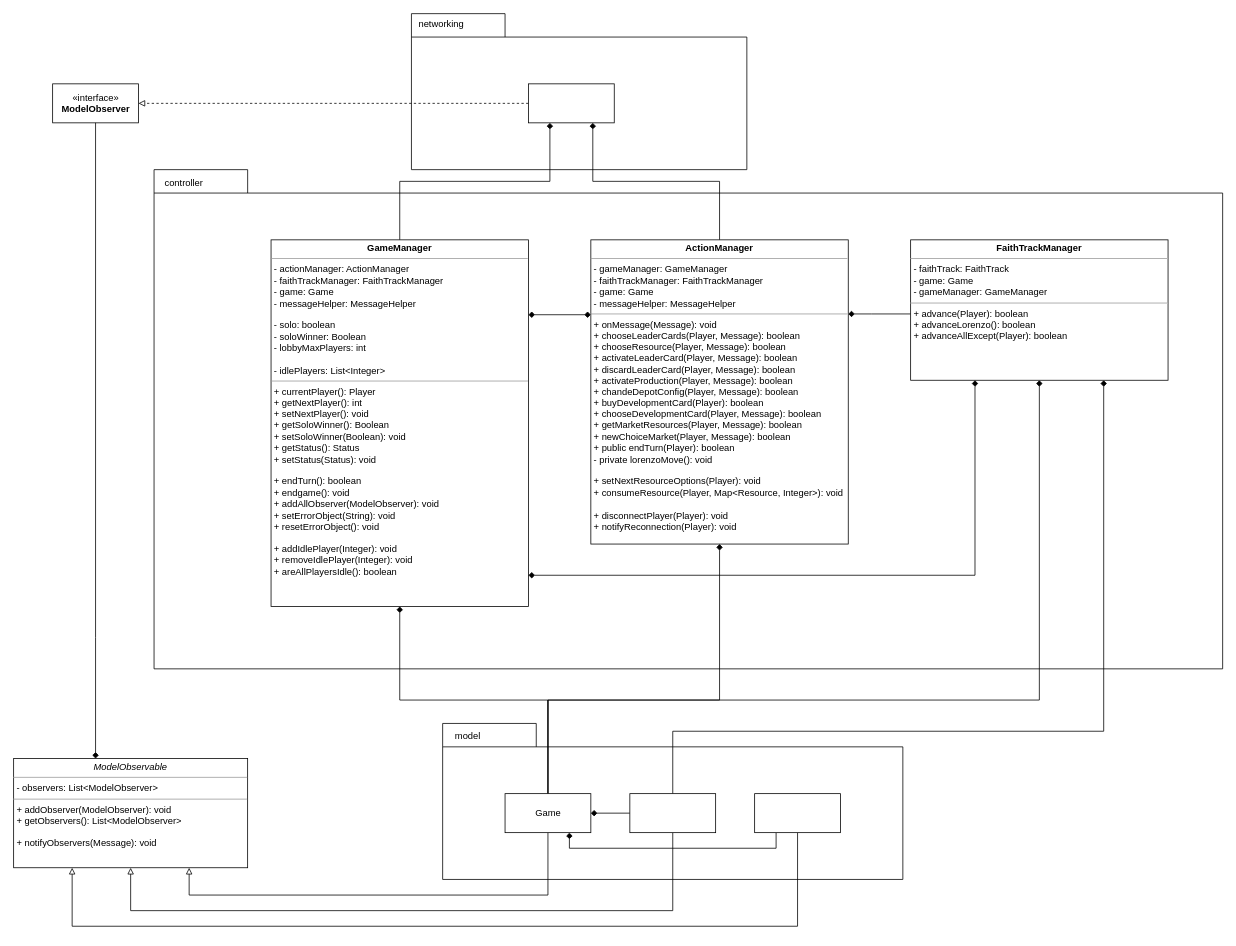
Image size: 1236x946. Some labels were removed from this diagram. Here are the shapes that lost their labels. From the top down, the centre of each, then its label:
the point at 571,103: ClientHandler
the point at 672,813: FaithTrack
the point at 797,813: ModelObject
